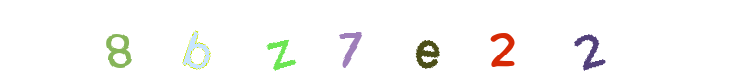2: (463, 0, 543, 80), (550, 0, 630, 80)
7: (349, 0, 429, 80)
8: (157, 0, 237, 80)
B: (261, 0, 341, 80)
E: (387, 0, 467, 80)
Z: (332, 0, 412, 80)
